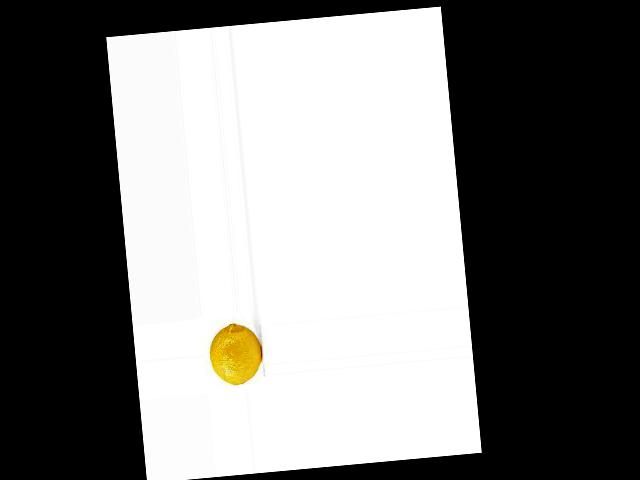lemon: (205, 311, 266, 394)
